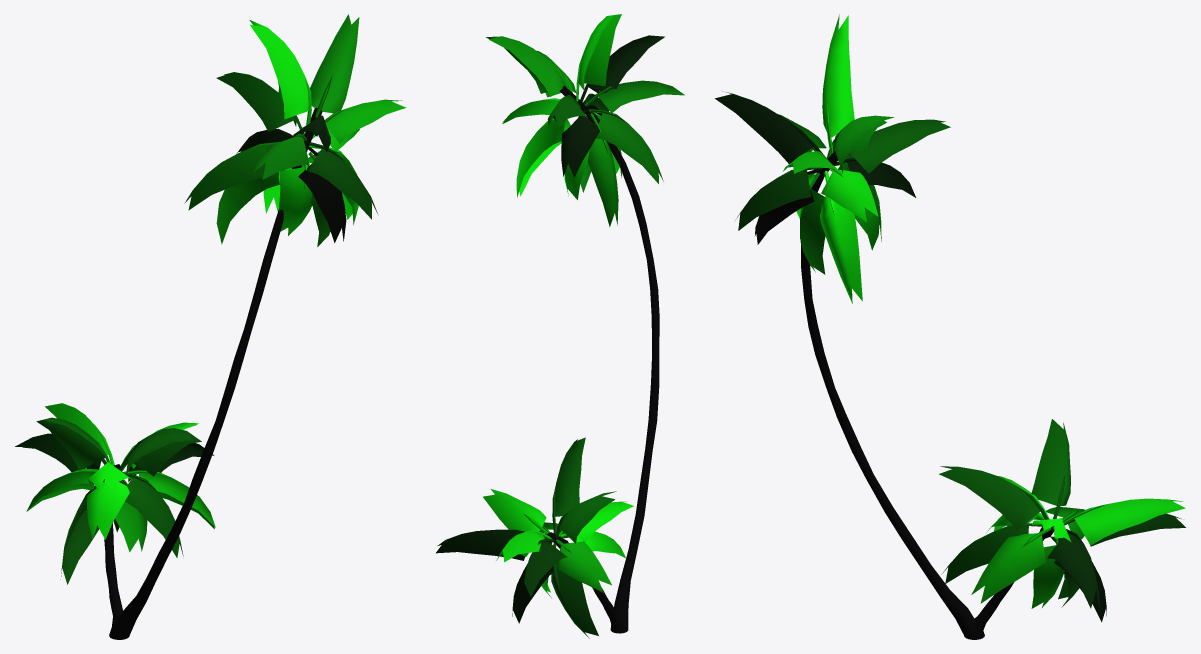
Rendered from M_P10_Tree_16.fbx.
3 views of the same model, side by side, from view 1: azimuth 30°, elevation 25°; view 2: azimuth 150°, elevation 25°; view 3: azimuth 270°, elevation 25° (orthographic). The views are drawn at different scales.
Visible parts, largest first — view 1: Palm_2_8; view 2: Palm_2_8; view 3: Palm_2_8.
Boxes of the visible parts, <box> form: Palm_2_8: <box>15,14,406,639</box>; Palm_2_8: <box>436,14,684,638</box>; Palm_2_8: <box>715,14,1185,639</box>.
Size of the model in its own units: 323 by 831 by 543.
